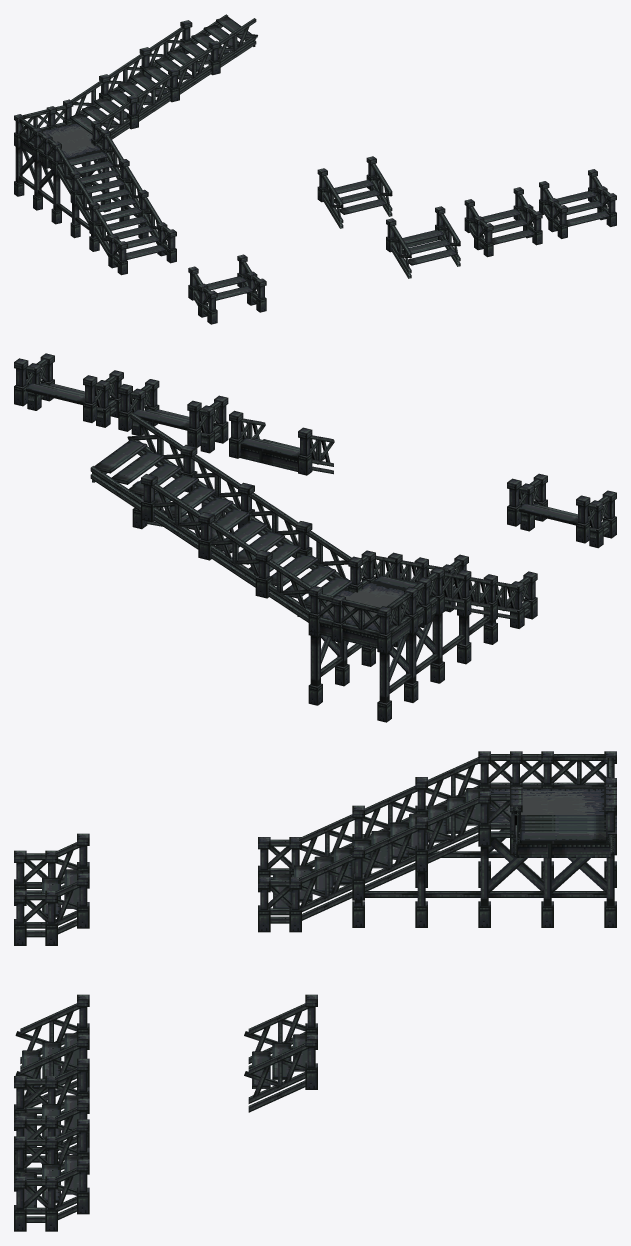
Rendered from EnvMdrMD_Factory_A_Stairs_A.FBX.
The picture shows the model from 3 angles, top to bottom: view 1: azimuth 30°, elevation 25°; view 2: azimuth 150°, elevation 25°; view 3: azimuth 270°, elevation 25°; orthographic projection. The views are drawn at different scales.
Visible parts, largest first — view 1: EnvMdrMD_Factory_A_Stairs_A, EnvMdrMD_Factory_A_Stairs_A_Start, EnvMdrMD_Factory_A_Stairs_A_3S3W, EnvMdrMD_Factory_A_Stairs_A_End, EnvMdrMD_Factory_A_Stairs_A_Start_2step, EnvMdrMD_Factory_A_Stairs_A_Loop; view 2: EnvMdrMD_Factory_A_Stairs_A, EnvMdrMD_Factory_A_Stairs_A_Start_2step, EnvMdrMD_Factory_A_Stairs_A_3S3W, EnvMdrMD_Factory_A_Stairs_A_Start, EnvMdrMD_Factory_A_Stairs_A_End, EnvMdrMD_Factory_A_Stairs_A_Loop; view 3: EnvMdrMD_Factory_A_Stairs_A, EnvMdrMD_Factory_A_Stairs_A_3S3W, EnvMdrMD_Factory_A_Stairs_A_Start_2step, EnvMdrMD_Factory_A_Stairs_A_Loop, EnvMdrMD_Factory_A_Stairs_A_Start, EnvMdrMD_Factory_A_Stairs_A_End.
Part boxes in pixels (<box>): EnvMdrMD_Factory_A_Stairs_A: <box>14,14,257,275</box>; EnvMdrMD_Factory_A_Stairs_A_Start: <box>464,187,542,257</box>; EnvMdrMD_Factory_A_Stairs_A_3S3W: <box>539,169,616,238</box>; EnvMdrMD_Factory_A_Stairs_A_End: <box>386,206,460,278</box>; EnvMdrMD_Factory_A_Stairs_A_Start_2step: <box>188,254,266,324</box>; EnvMdrMD_Factory_A_Stairs_A_Loop: <box>317,156,392,228</box>; EnvMdrMD_Factory_A_Stairs_A: <box>90,413,537,722</box>; EnvMdrMD_Factory_A_Stairs_A_Start_2step: <box>507,473,616,548</box>; EnvMdrMD_Factory_A_Stairs_A_3S3W: <box>14,353,123,427</box>; EnvMdrMD_Factory_A_Stairs_A_Start: <box>118,379,228,453</box>; EnvMdrMD_Factory_A_Stairs_A_End: <box>229,410,334,475</box>; EnvMdrMD_Factory_A_Stairs_A_Loop: <box>132,481,233,540</box>; EnvMdrMD_Factory_A_Stairs_A: <box>258,751,616,932</box>; EnvMdrMD_Factory_A_Stairs_A_3S3W: <box>14,1119,89,1231</box>; EnvMdrMD_Factory_A_Stairs_A_Start_2step: <box>14,833,89,945</box>; EnvMdrMD_Factory_A_Stairs_A_Loop: <box>244,994,317,1112</box>; EnvMdrMD_Factory_A_Stairs_A_Start: <box>14,1058,89,1164</box>; EnvMdrMD_Factory_A_Stairs_A_End: <box>15,994,89,1107</box>.
Size of what is drawn, in the model's own units: 2589 by 895 by 1915.
1 material, 1 textured.
